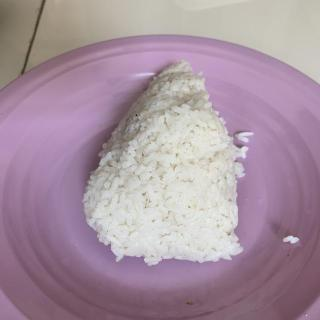Nasi: (84, 62, 241, 264)
